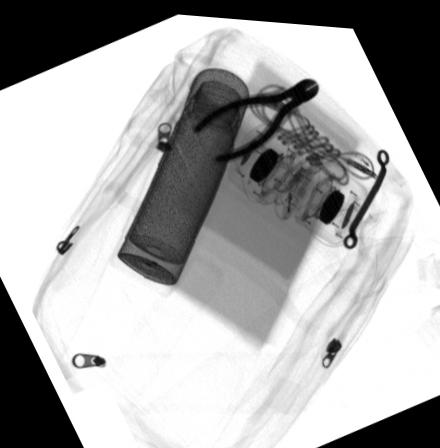Pliers: (189, 71, 319, 163)
Wrench: (341, 141, 391, 242)
